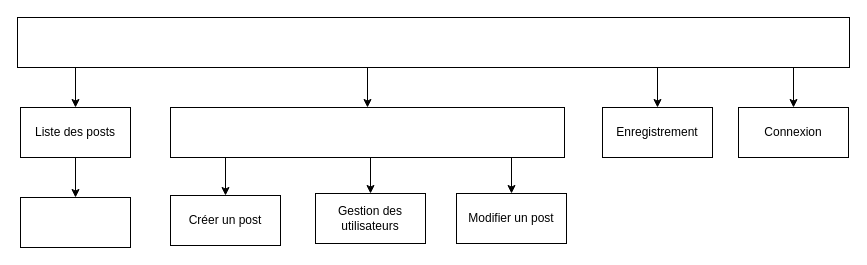
This 867x265 diagram has some shape labels left out. The shapes that lost their labels are listed below. From the top down, each one's box as (x1, y1, x2, y2) in pixels, then its label:
(16, 16, 850, 68): Page d'accueil
(170, 106, 564, 158): Administration
(20, 196, 130, 248): Page d'un post
